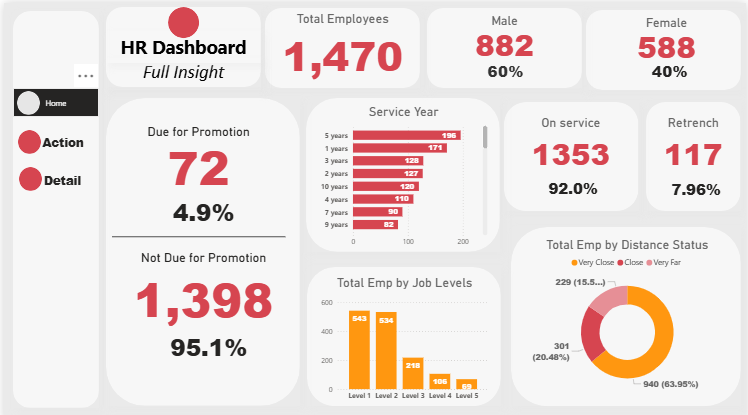

Layout of this report page (visuals, bound fields, positions):
{"tool":"powerbi","page":{"name":"Home","canvas":[1280,720],"ordinal":0},"visuals":[{"type":"shape","box":[15.5,13.8,148.3,684.5],"z":0},{"type":"shape","box":[176.4,6.7,267.1,137.7],"z":1000},{"type":"shape","box":[450.2,8.4,267.1,137.7],"z":2000},{"type":"shape","box":[729,8.4,267.1,137.7],"z":3000},{"type":"shape","box":[1002.8,11.8,267.1,137.7],"z":4000},{"type":"shape","box":[176.4,164.6,334.3,530.8],"z":5000},{"type":"shape","box":[520.7,164.6,334.3,265.4],"z":6000},{"type":"shape","box":[522.4,455.2,334.3,240.2],"z":7000},{"type":"shape","box":[861.7,171.3,231.8,188.1],"z":8000},{"type":"shape","box":[1107,171.3,162.9,188.1],"z":9000},{"type":"shape","box":[873.5,386.4,396.4,309.1],"z":10000},{"type":"textbox","box":[176.4,94.1,267.1,55.4],"z":11000},{"type":"textbox","box":[176.4,48.7,267.1,55.4],"z":12000},{"type":"shape","box":[282.2,6.7,53.8,53.8],"z":13000},{"type":"card","title":"Total Employees","fields":{"Values":["All Measures.Total Emp"]},"box":[468.7,13.4,230.1,122.6],"z":14000},{"type":"card","title":"Male","fields":{"Values":["All Measures.Male"]},"box":[806.6,17.4,112.5,82.3],"z":15000},{"type":"card","title":"Male","fields":{"Values":["All Measures.% male"]},"box":[774.7,49.3,181.4,136.1],"z":16000},{"type":"card","title":"Female","fields":{"Values":["All Measures.Female"]},"box":[1085.3,21.2,115.9,82.3],"z":17000},{"type":"card","title":"Male","fields":{"Values":["All Measures.% On service"]},"box":[908.8,255.3,144.5,131],"z":18000},{"type":"card","title":"Due for Promotion","fields":{"Values":["All Measures.Due for promotion"]},"box":[186.5,208.3,299,114.2],"z":19000},{"type":"card","fields":{"Values":["All Measures.%Due"]},"box":[268.8,320.8,151.2,77.3],"z":20000},{"type":"card","title":"Not Due for Promotion","fields":{"Values":["All Measures.Not Due for Promotion"]},"box":[194.9,426.7,299,136.1],"z":21000},{"type":"card","fields":{"Values":["All Measures.%Not due"]},"box":[277.2,552.7,151.2,77.3],"z":22000},{"type":"shape","box":[186.5,253.6,299,299],"z":23000},{"type":"barChart","title":"Service Year","fields":{"Category":["HR Analytics Data.Service Year"],"Y":["All Measures.Total Emp"]},"box":[539.2,174.7,299,255.3],"z":24000},{"type":"columnChart","fields":{"Y":["All Measures.Total Emp"],"Category":["HR Analytics Data.Job Levels"]},"box":[540.9,468.7,299,226.8],"z":25000},{"type":"card","title":"On service","fields":{"Values":["All Measures.On Service"]},"box":[878.5,193.2,196.5,104.1],"z":26000},{"type":"card","title":"Retrench","fields":{"Values":["All Measures.Will be retrenched"]},"box":[1110.3,193.2,156.2,104.1],"z":27000},{"type":"card","title":"Male","fields":{"Values":["All Measures.% Will be retrenched"]},"box":[1120.4,280.5,144.5,82.3],"z":28000},{"type":"card","title":"Male","fields":{"Values":["All Measures.% female"]},"box":[1075.1,53.8,144.5,131],"z":29000},{"type":"donutChart","fields":{"Category":["HR Analytics Data.Distance  Status"],"Y":["All Measures.Total Emp"]},"box":[897,403.1,356.1,275.5],"z":30000},{"type":"group","id":"g1","title":"Group 1","box":[15.5,146.6,148.3,50],"z":31000},{"type":"pageNavigator","box":[15.5,146.6,148.3,50],"z":31000,"group":"g1"},{"type":"group","id":"g2","title":"Group 2","box":[24.1,215.5,151.7,50],"z":32000},{"type":"pageNavigator","box":[27.5,215.5,148.3,50],"z":32000,"group":"g2"},{"type":"group","id":"g3","title":"Group 3","box":[25.9,281,150,50],"z":33000},{"type":"pageNavigator","box":[25.9,281,150,50],"z":33000,"group":"g3"},{"type":"shape","box":[24.1,218.9,39.7,41.4],"z":34000,"group":"g2"},{"type":"shape","box":[25.9,282.7,39.7,41.4],"z":34001,"group":"g3"},{"type":"shape","box":[22.4,151.8,39.7,41.4],"z":34002,"group":"g1"}]}

Visuals, with their boxes in screenshot pixels (x1, y1, x2, y2), scaled from the page's 1280x720 canvas onto the 748x415 screenshot:
shape: select_region(9, 8, 96, 402)
shape: select_region(103, 4, 259, 83)
shape: select_region(263, 5, 419, 84)
shape: select_region(426, 5, 582, 84)
shape: select_region(586, 7, 742, 86)
shape: select_region(103, 95, 298, 401)
shape: select_region(304, 95, 500, 248)
shape: select_region(305, 262, 501, 401)
shape: select_region(504, 99, 639, 207)
shape: select_region(647, 99, 742, 207)
shape: select_region(510, 223, 742, 401)
textbox: select_region(103, 54, 259, 86)
textbox: select_region(103, 28, 259, 60)
shape: select_region(165, 4, 196, 35)
"Total Employees" card: select_region(274, 8, 408, 78)
"Male" card: select_region(471, 10, 537, 57)
"Male" card: select_region(453, 28, 559, 107)
"Female" card: select_region(634, 12, 702, 60)
"Male" card: select_region(531, 147, 616, 223)
"Due for Promotion" card: select_region(109, 120, 284, 186)
card - All Measures.%Due: select_region(157, 185, 245, 229)
"Not Due for Promotion" card: select_region(114, 246, 289, 324)
card - All Measures.%Not due: select_region(162, 319, 250, 363)
shape: select_region(109, 146, 284, 319)
"Service Year" barChart: select_region(315, 101, 490, 248)
columnChart - All Measures.Total Emp x HR Analytics Data.Job Levels: select_region(316, 270, 491, 401)
"On service" card: select_region(513, 111, 628, 171)
"Retrench" card: select_region(649, 111, 740, 171)
"Male" card: select_region(655, 162, 739, 209)
"Male" card: select_region(628, 31, 713, 107)
donutChart - HR Analytics Data.Distance  Status x All Measures.Total Emp: select_region(524, 232, 732, 391)
"Group 1" group: select_region(9, 84, 96, 113)
pageNavigator: select_region(9, 84, 96, 113)
"Group 2" group: select_region(14, 124, 103, 153)
pageNavigator: select_region(16, 124, 103, 153)
"Group 3" group: select_region(15, 162, 103, 191)
pageNavigator: select_region(15, 162, 103, 191)
shape: select_region(14, 126, 37, 150)
shape: select_region(15, 163, 38, 187)
shape: select_region(13, 87, 36, 111)
